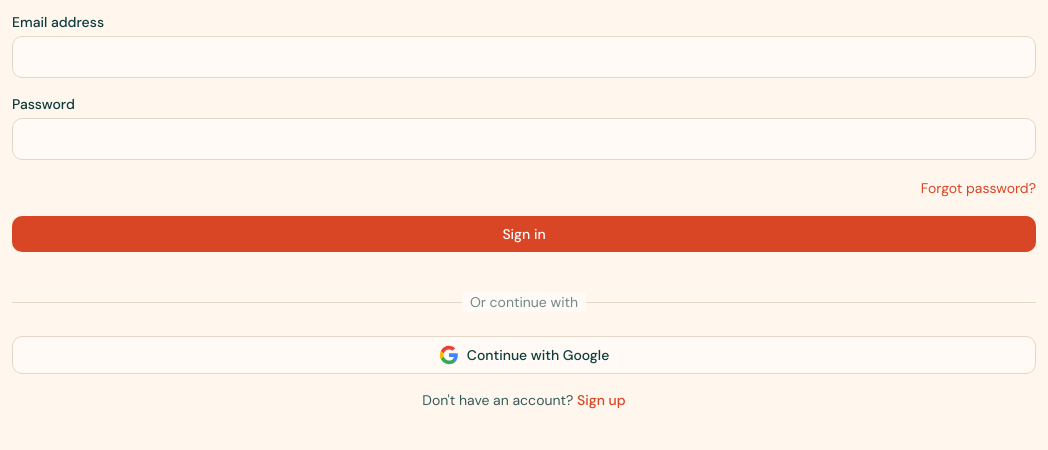
components/auth/LoginForm › shows validation error for empty password
The width and height of the screenshot is (1048, 450).
Type "test@example.com" into the field labelled "Email address" at [524, 57], box [12, 36, 1036, 78]
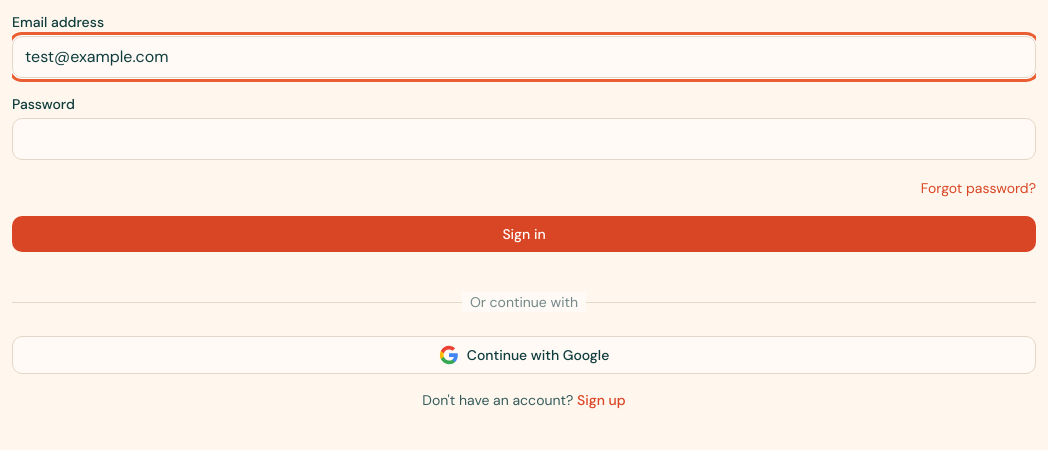
Click the button "Sign in" at [524, 234], box [12, 216, 1036, 252]
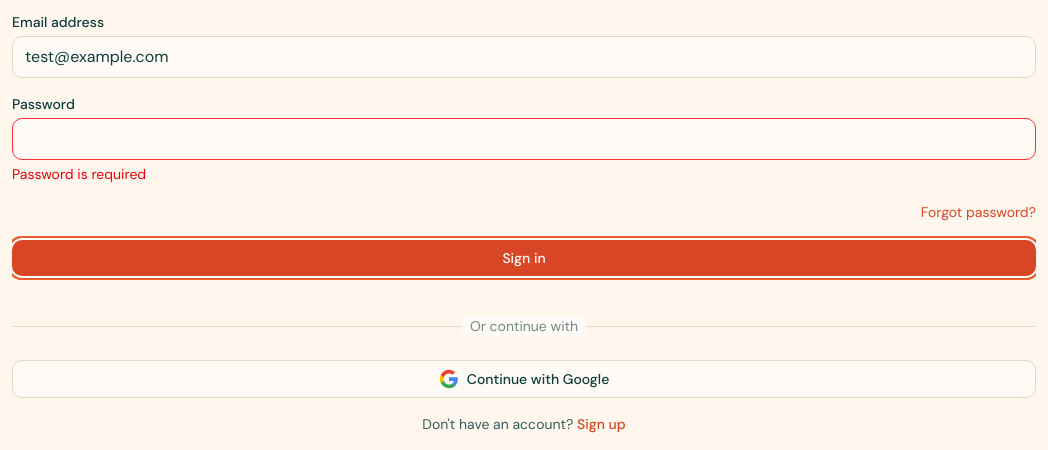
Expected: the text "Password is required" is shown, [12, 165, 146, 183]
